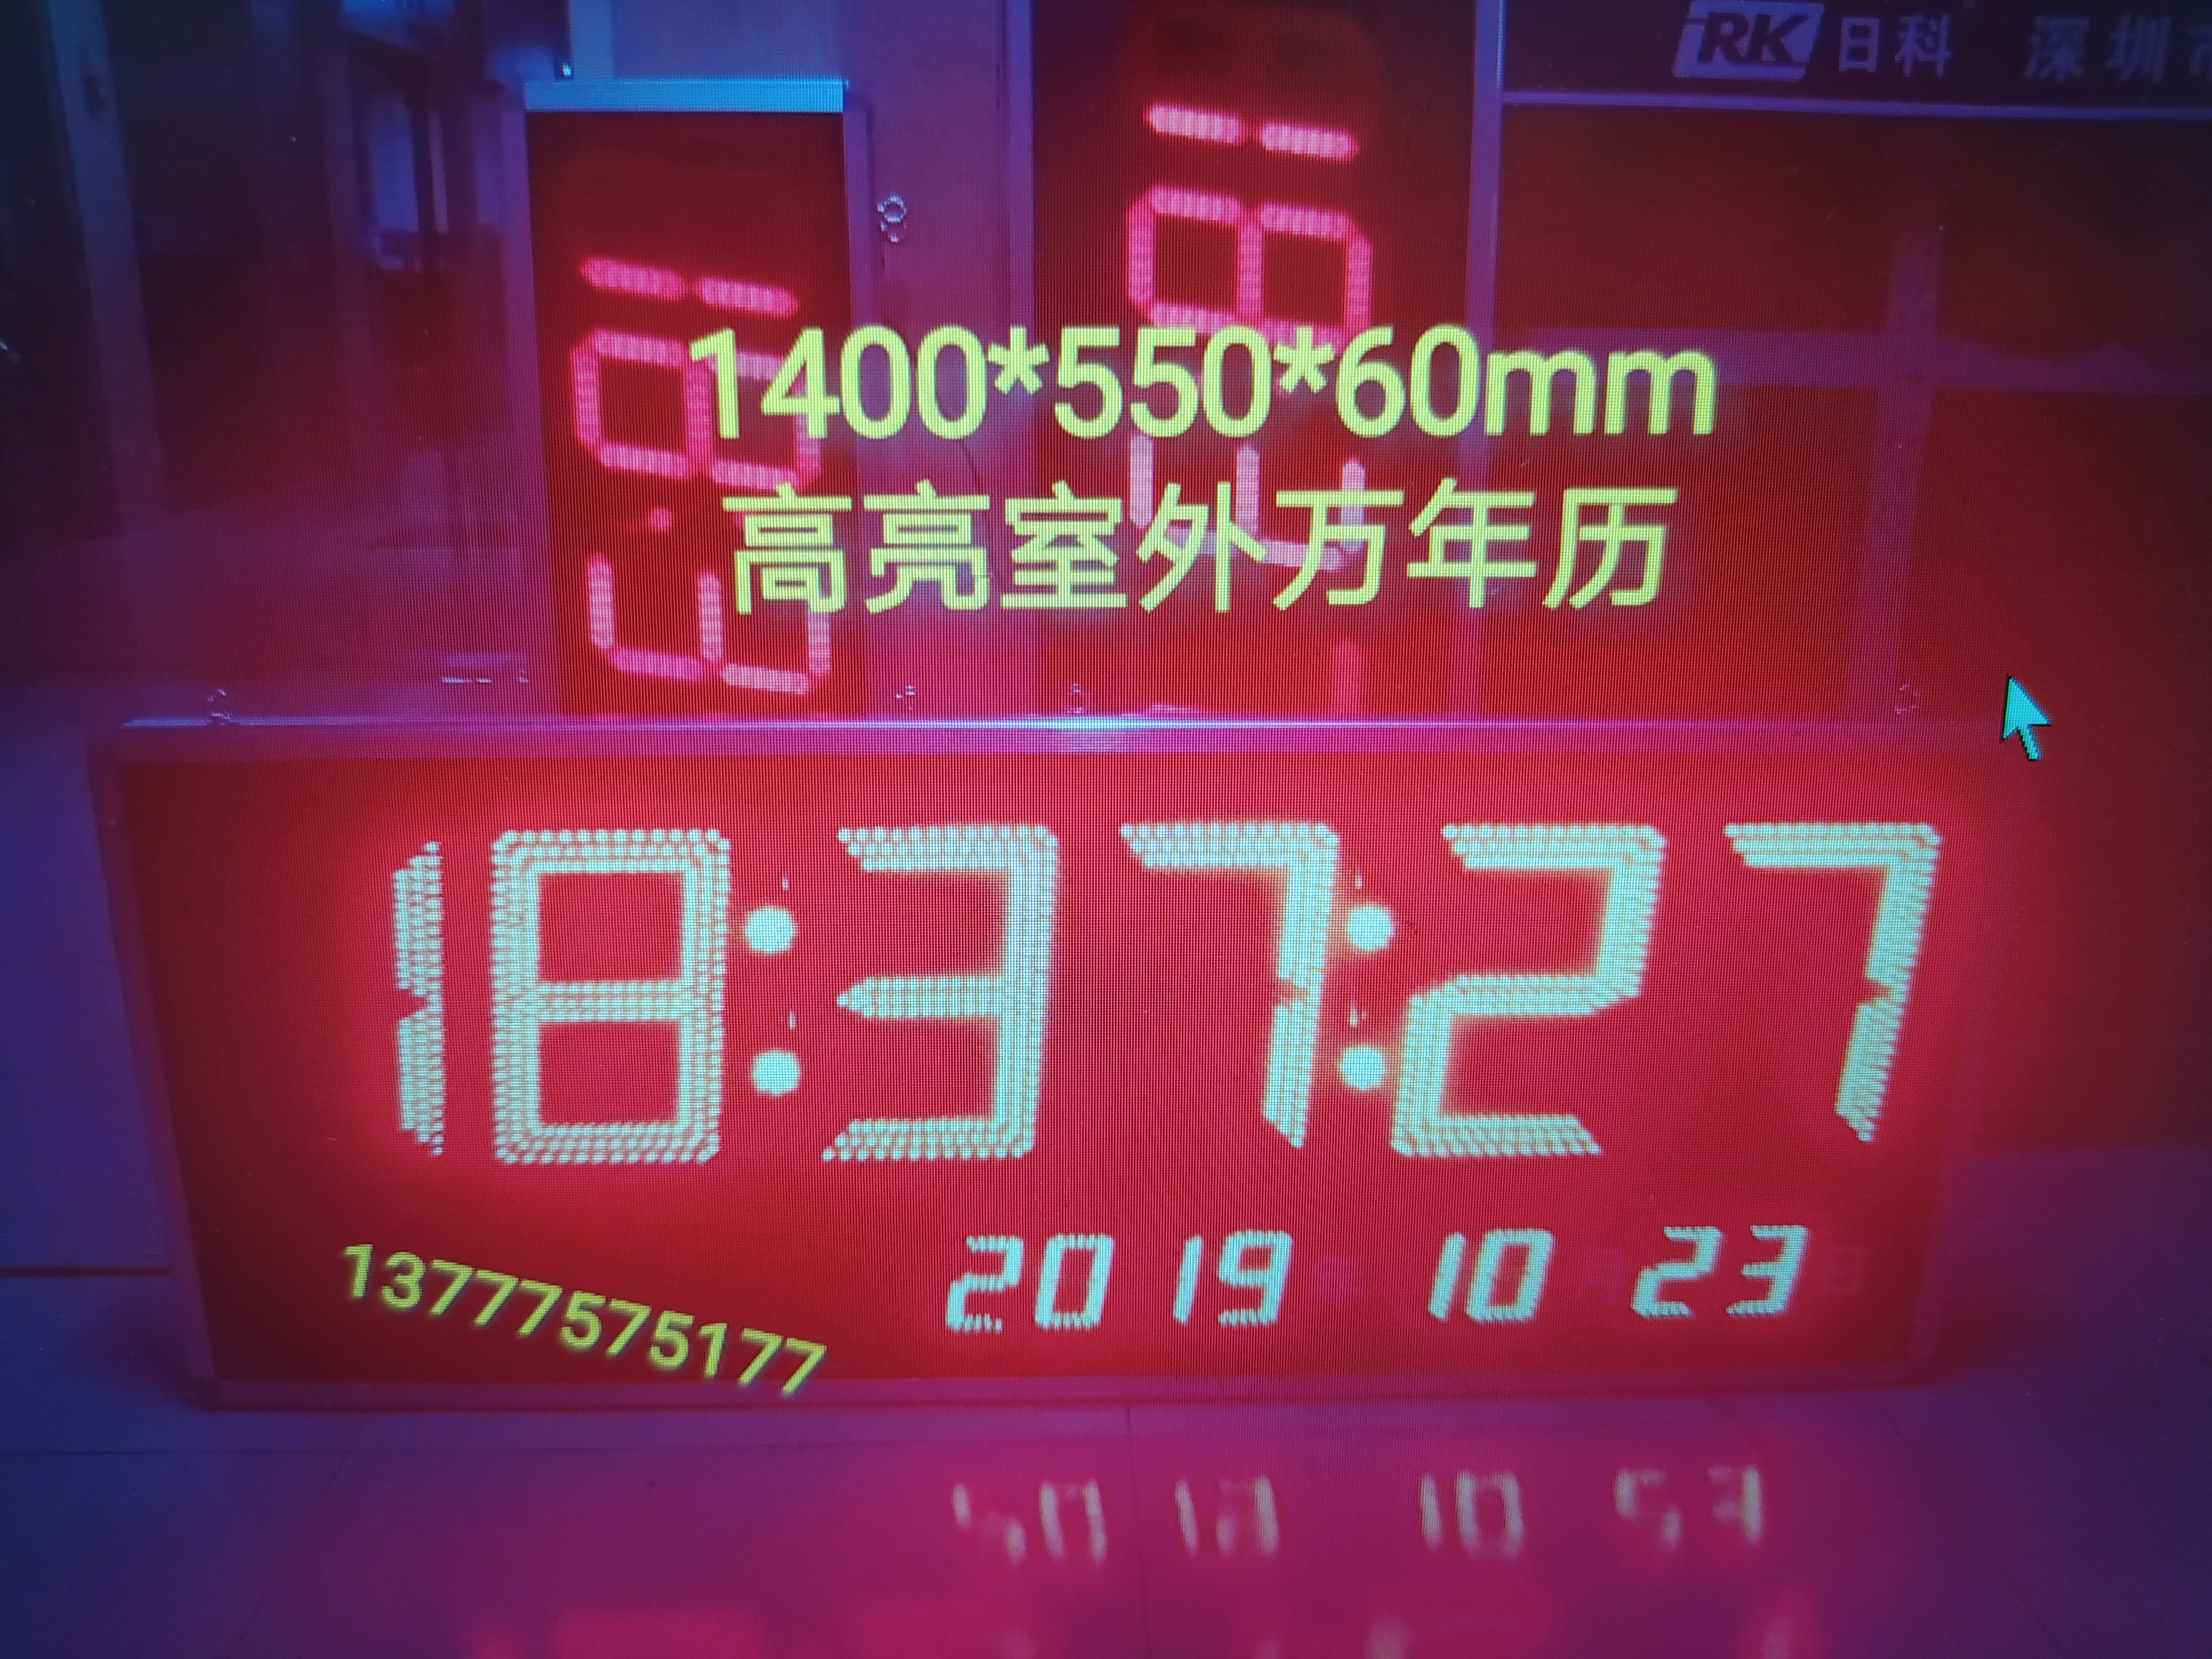.: (721, 985, 815, 1152), (1336, 816, 1411, 985), (732, 831, 812, 981), (1329, 1004, 1392, 1145)
0: (1029, 1229, 1144, 1354), (906, 315, 988, 444), (831, 317, 907, 448), (1470, 1223, 1562, 1330), (1413, 315, 1484, 444), (1211, 317, 1278, 448)
1: (355, 836, 469, 1175), (672, 317, 759, 455), (1141, 1209, 1223, 1342), (1416, 1218, 1468, 1323), (341, 1227, 373, 1302), (695, 1323, 726, 1382)
2: (1393, 805, 1669, 1166), (932, 1225, 1029, 1347), (1627, 1227, 1723, 1326)
3: (840, 826, 1082, 1190), (1735, 1225, 1831, 1326), (378, 1239, 427, 1319)
4: (751, 317, 840, 460)
5: (1045, 315, 1127, 451), (1129, 315, 1207, 451), (563, 1293, 610, 1356), (653, 1310, 698, 1370)
6: (1329, 322, 1411, 444)
7: (1096, 812, 1350, 1159), (1717, 816, 1958, 1164), (772, 1337, 838, 1403), (425, 1255, 477, 1321), (730, 1324, 784, 1387), (512, 1277, 564, 1337), (603, 1298, 646, 1359), (472, 1270, 516, 1323)
8: (482, 823, 740, 1178)
9: (1212, 1211, 1298, 1331)
